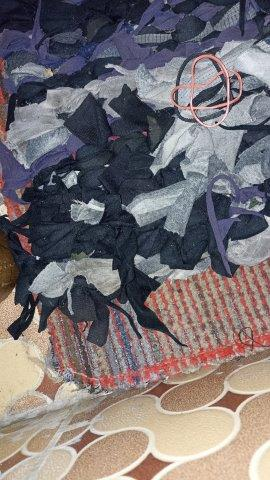karet: (170, 53, 243, 128)
